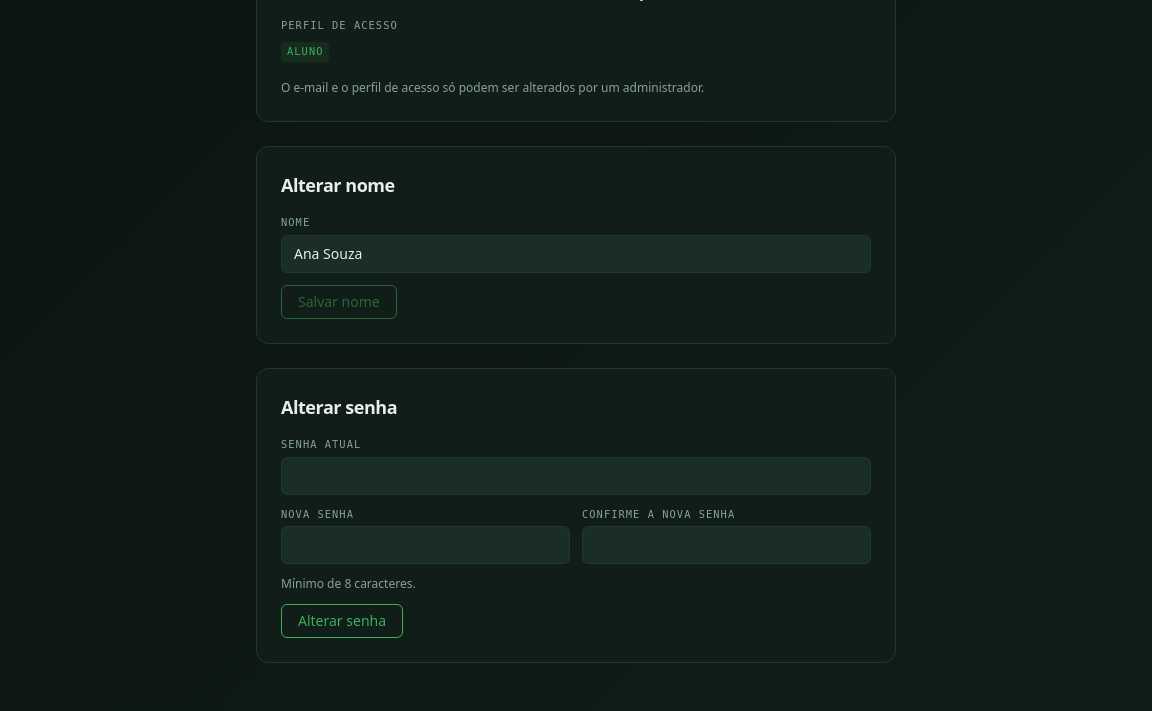
Test: changing the password › sends the current and the new password, then clears the form
(page scrolled)
Type "antiga123" into the password field labelled "Senha atual" at x=576, y=476, box [281, 456, 871, 494]
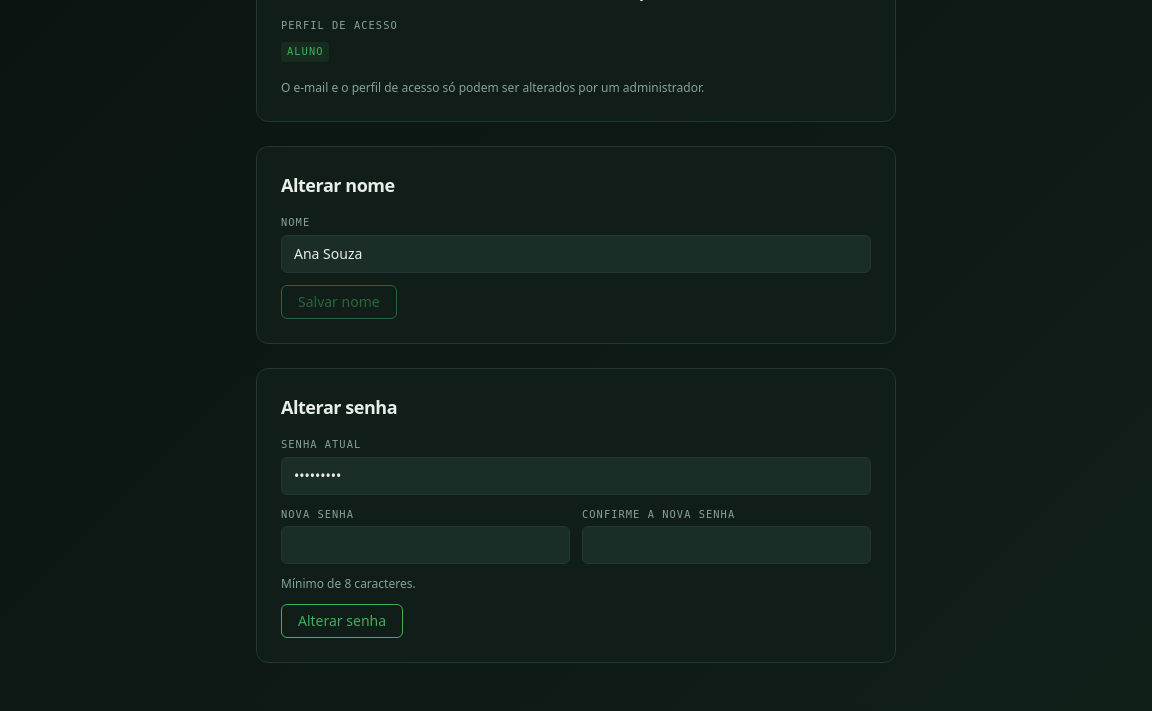
Type "nova-senha" into the password field labelled "Nova senha" at x=426, y=545, box [281, 526, 570, 564]
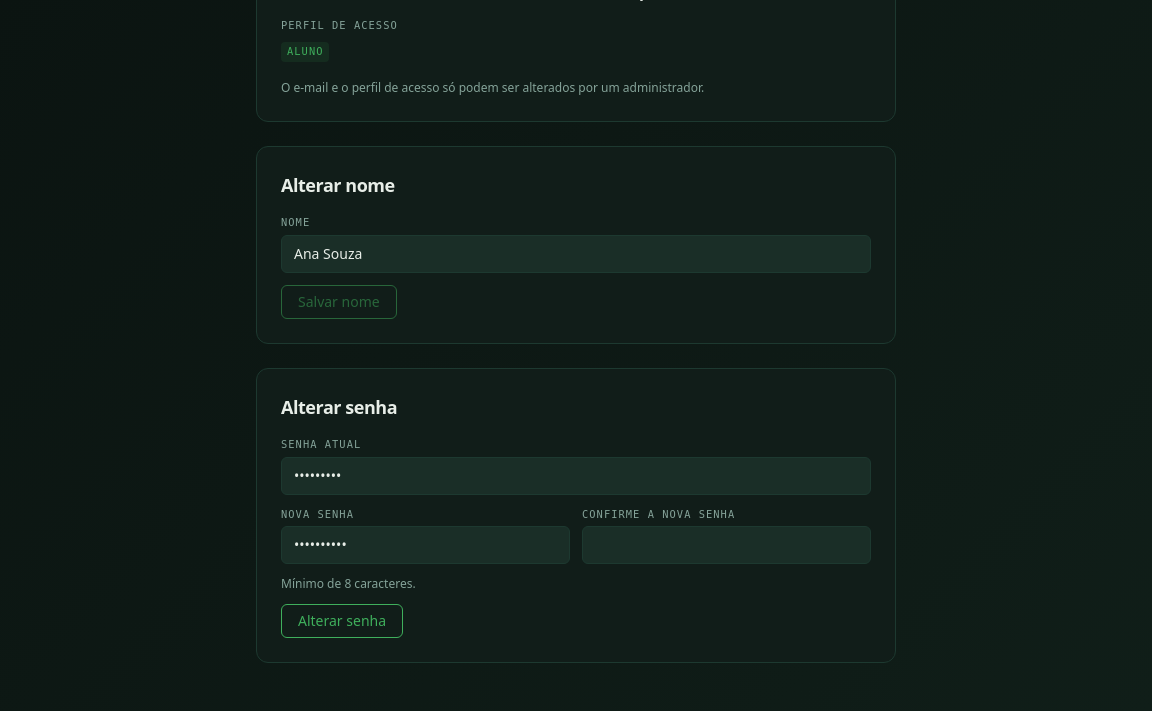
Type "nova-senha" into the password field labelled "Confirme a nova senha" at x=726, y=545, box [582, 526, 871, 564]
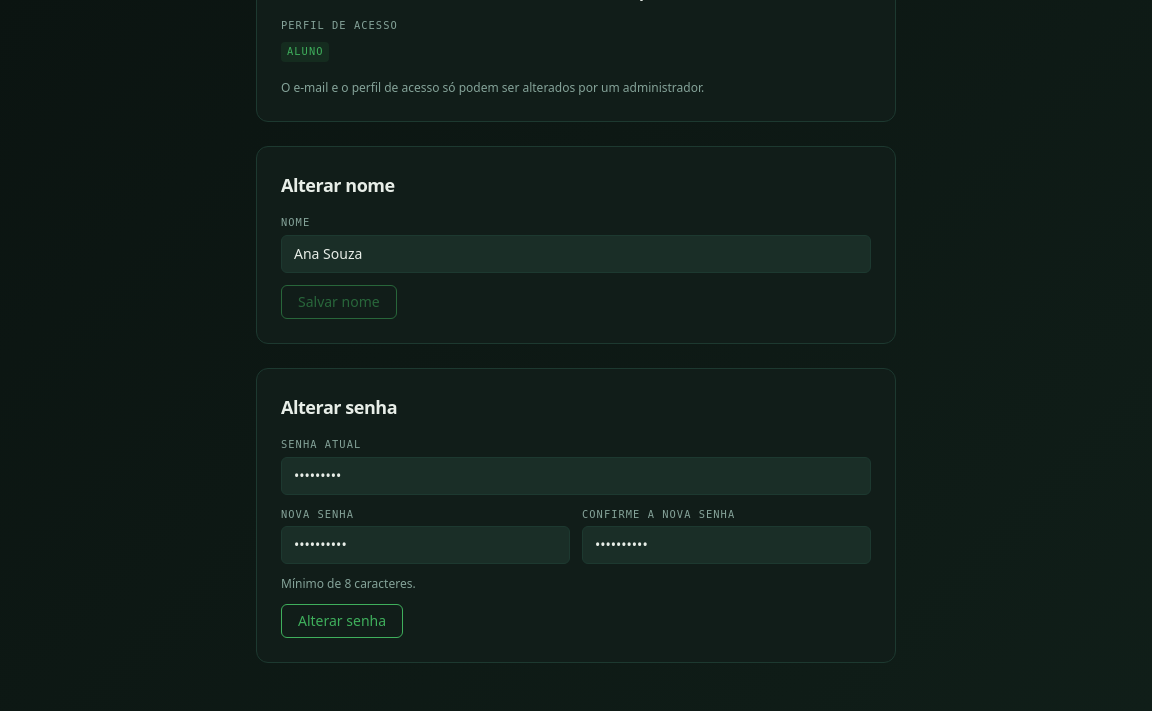
Click the button "Alterar senha" at x=342, y=621, box [281, 604, 403, 638]
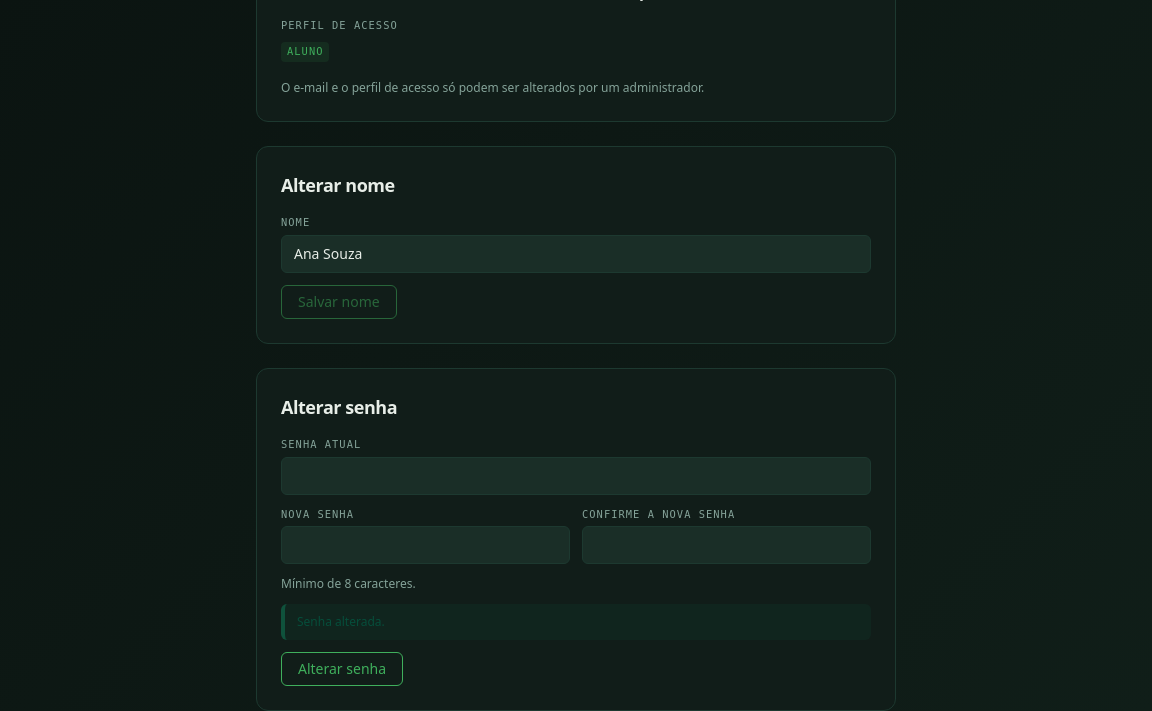
Expected: the message reads "Senha alterada.", [297, 613, 385, 630]
Expected: the password field labelled "Senha atual" is empty, [281, 456, 871, 494]
Expected: the password field labelled "Nova senha" is empty, [281, 526, 570, 564]
